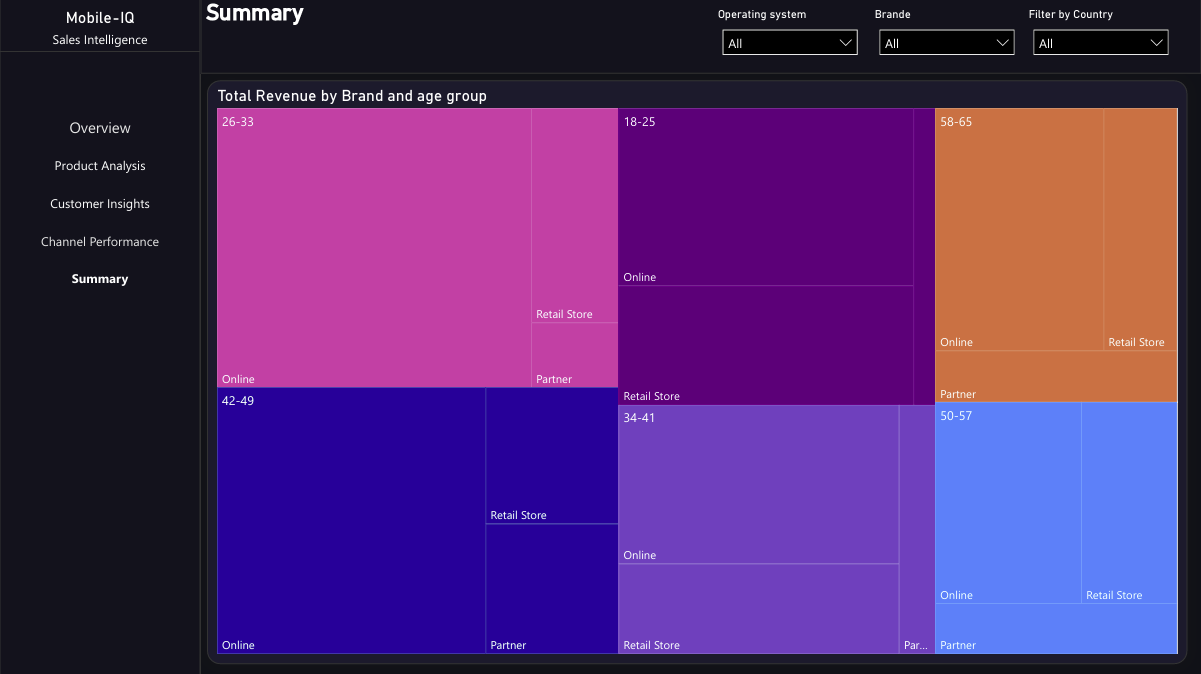

The dashboard page shown, as its layout file describes it:
{"tool":"powerbi","page":{"name":"Summary Page","canvas":[1280,720],"ordinal":4},"visuals":[{"type":"shape","box":[0,0,214,720],"z":2000},{"type":"actionButton","box":[12.5,115.5,188.1,40.3],"z":3000},{"type":"actionButton","box":[12.5,155.8,188.1,41.2],"z":4000},{"type":"actionButton","box":[12.5,197,188.1,40.3],"z":5000},{"type":"actionButton","box":[12.5,237.3,188.1,40.3],"z":6000},{"type":"actionButton","title":"Mobile-IQ","box":[0,10,214,70],"z":7000},{"type":"textbox","title":"Summary","box":[214,0,1066,80],"z":8000},{"type":"slicer","title":"Filter by Country","fields":{"Values":["Fact_Sales.Country"]},"box":[1091,10,164,53],"z":9000},{"type":"slicer","title":"Brande","fields":{"Values":["Fact_Sales.Brand"]},"box":[927,10,164,53],"z":10000},{"type":"slicer","title":"Operating system","fields":{"Values":["Fact_Sales.Operating_System"]},"box":[760,10,164,53],"z":11000},{"type":"treemap","title":"Total Revenue by Brand and age group","fields":{"Group":["Fact_Sales.Customer_Age_Group"],"Values":["Fact_Sales.Overal revenue"],"Details":["Fact_Sales.Sales_Channel"]},"box":[225.9,90.7,1040.3,618.7],"z":14000},{"type":"actionButton","box":[13,277,188,41],"z":15000}]}

Visuals, with their boxes on the page's 1280x720 design canvas (x1, y1, x2, y2). These are canvas units, not pixel positions in the 1201x674 screenshot, which may show the page scaled, cropped or inside an application window:
shape: 0 0 214 720
actionButton: 12 116 201 156
actionButton: 12 156 201 197
actionButton: 12 197 201 237
actionButton: 12 237 201 278
"Mobile-IQ" actionButton: 0 10 214 80
"Summary" textbox: 214 0 1280 80
"Filter by Country" slicer: 1091 10 1255 63
"Brande" slicer: 927 10 1091 63
"Operating system" slicer: 760 10 924 63
"Total Revenue by Brand and age group" treemap: 226 91 1266 709
actionButton: 13 277 201 318
